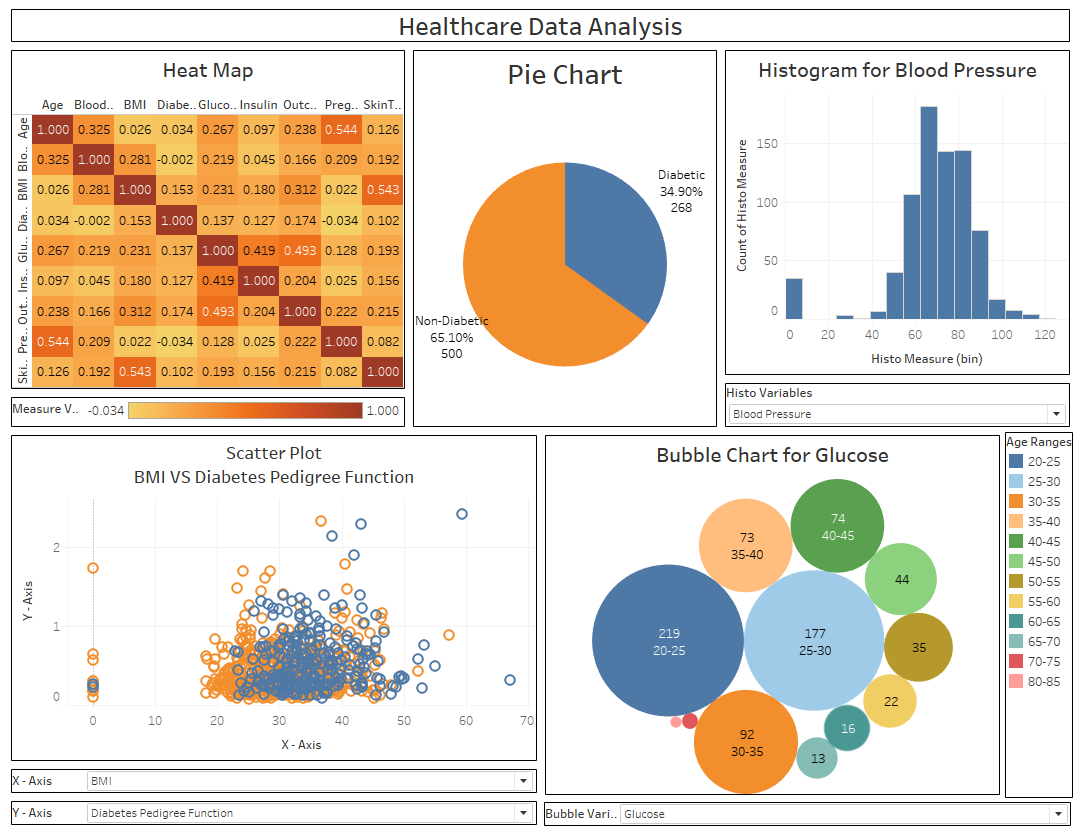

This screenshot's page, from the dashboard's own definition file:
{"tool":"tableau","page":{"name":"Dashboard","canvas":[1000,1000],"units":"permille","ordinal":0},"visuals":[{"type":"title","box":[7.4,9.5,985.2,48.8]},{"type":"worksheet","title":"Heat Map","mark":"Square","cols":["F1"],"box":[7.4,58.3,370.8,413]},{"type":"worksheet","title":"Pie Chart","mark":"Pie","box":[378.2,58.3,288.4,458.3]},{"type":"worksheet","title":"Histogram","mark":"Automatic","rows":["Calculation_905505055919398929"],"cols":["Histo Measure (bin)"],"box":[666.6,58.3,326,396.4]},{"type":"parameter","param":"[Parameters].[X - Axis  (copy)_905505055918964752]","box":[666.6,454.8,326,61.9]},{"type":"legend","title":"Heat Map","param":"[federated.1pnz7w91bvf08y1cv3g3c0phgoub].[Multiple Values]","box":[7.4,471.4,370.8,45.2]},{"type":"worksheet","title":"Scatter Plot","mark":"Automatic","rows":["Calculation_905505055910014986"],"cols":["Calculation_905505055909560329"],"box":[7.4,516.7,492.6,397.6]},{"type":"worksheet","title":"Bubble Chart","mark":"Circle","box":[500,516.7,428,437.6]},{"type":"legend","title":"Bubble Chart","param":"[federated.0f86l801yb25ya13usxev056bwq1].[none:Calculation_905505055946588178:nk","box":[928,516.7,64.6,437.6]},{"type":"parameter","param":"[Parameters].[Parameter 1]","box":[7.4,914.3,492.6,38.1]},{"type":"parameter","param":"[Parameters].[X - Axis  (copy)_905505055909445640]","box":[7.4,952.4,492.6,38.1]},{"type":"parameter","param":"[Parameters].[Histo Variables (copy)_905505055947411475]","box":[500,954.3,492.6,36.2]}]}

Visuals, with their boxes on the dashboard's canvas, which has no fixed pixel size, in thousandths of its width and height (x1, y1, x2, y2). These are canvas units, not pixel positions in the 1080x835 screenshot, which may show the page scaled, cropped or inside an application window:
title: locate(7, 10, 993, 58)
"Heat Map" worksheet (Square marks): locate(7, 58, 378, 471)
"Pie Chart" worksheet (Pie marks): locate(378, 58, 667, 517)
"Histogram" worksheet: locate(667, 58, 993, 455)
parameter: locate(667, 455, 993, 517)
"Heat Map" legend: locate(7, 471, 378, 517)
"Scatter Plot" worksheet: locate(7, 517, 500, 914)
"Bubble Chart" worksheet (Circle marks): locate(500, 517, 928, 954)
"Bubble Chart" legend: locate(928, 517, 993, 954)
parameter: locate(7, 914, 500, 952)
parameter: locate(7, 952, 500, 990)
parameter: locate(500, 954, 993, 990)
